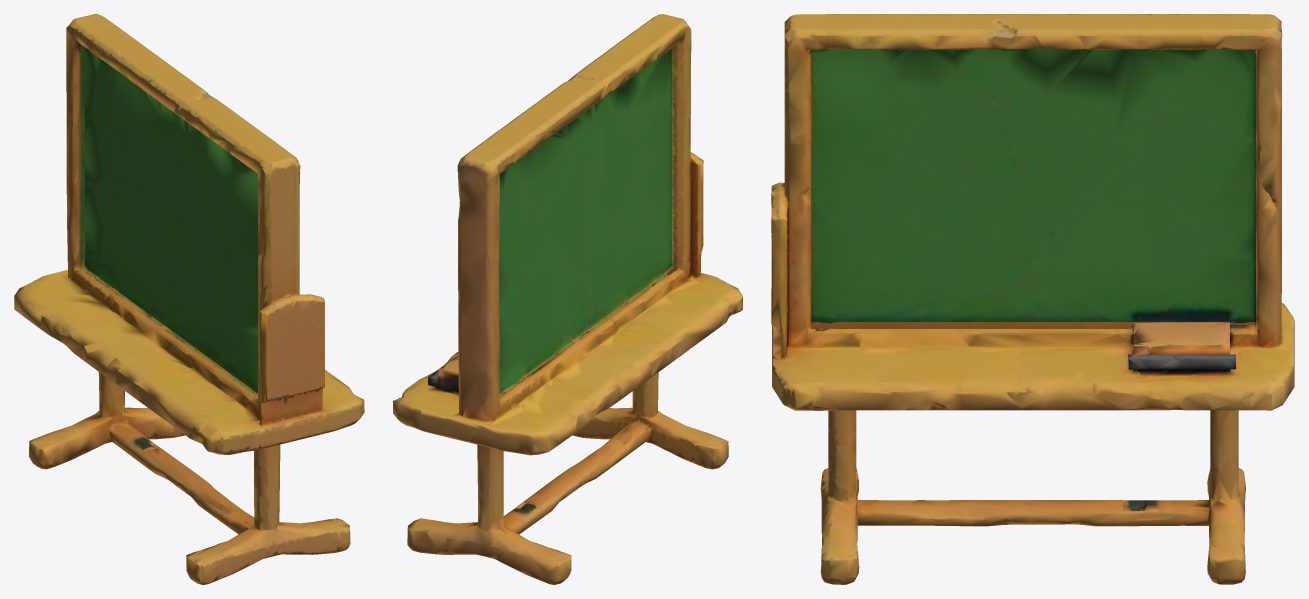
File: bg_blackboard.glb
3 renders of one model, left to right at view 1: azimuth 30°, elevation 25°; view 2: azimuth 150°, elevation 25°; view 3: azimuth 270°, elevation 25°, orthographic. The views are drawn at different scales.
Visible parts, largest first — view 1: tripo_node_b5dda33e-f61d-415f-9be9-71737ee0d5c8; view 2: tripo_node_b5dda33e-f61d-415f-9be9-71737ee0d5c8; view 3: tripo_node_b5dda33e-f61d-415f-9be9-71737ee0d5c8.
Part boxes in pixels (x1=…): tripo_node_b5dda33e-f61d-415f-9be9-71737ee0d5c8: x1=14, y1=14, x2=364, y2=584; tripo_node_b5dda33e-f61d-415f-9be9-71737ee0d5c8: x1=393, y1=14, x2=742, y2=584; tripo_node_b5dda33e-f61d-415f-9be9-71737ee0d5c8: x1=771, y1=14, x2=1294, y2=584.
Bounding box in the file's own units: 0.3902 × 1 × 0.9169.
1 material, 1 textured.
